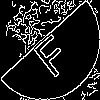F: (25, 25, 75, 80)
